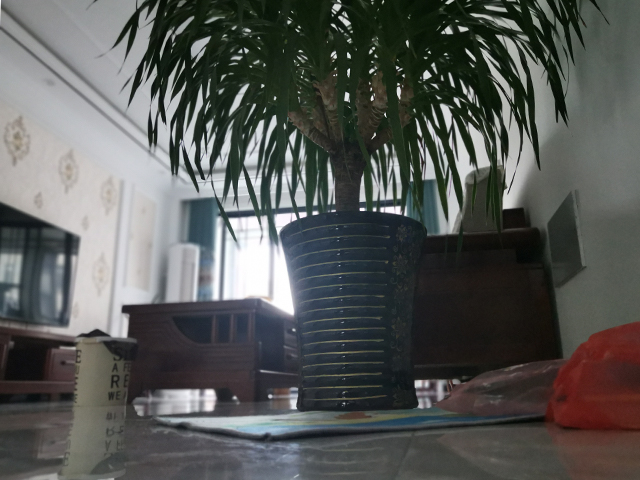cabinet: (1, 323, 80, 407)
carpet: (150, 404, 550, 443)
sofa: (411, 206, 564, 381)
table: (118, 296, 300, 405)
trashcan: (71, 334, 139, 409)
